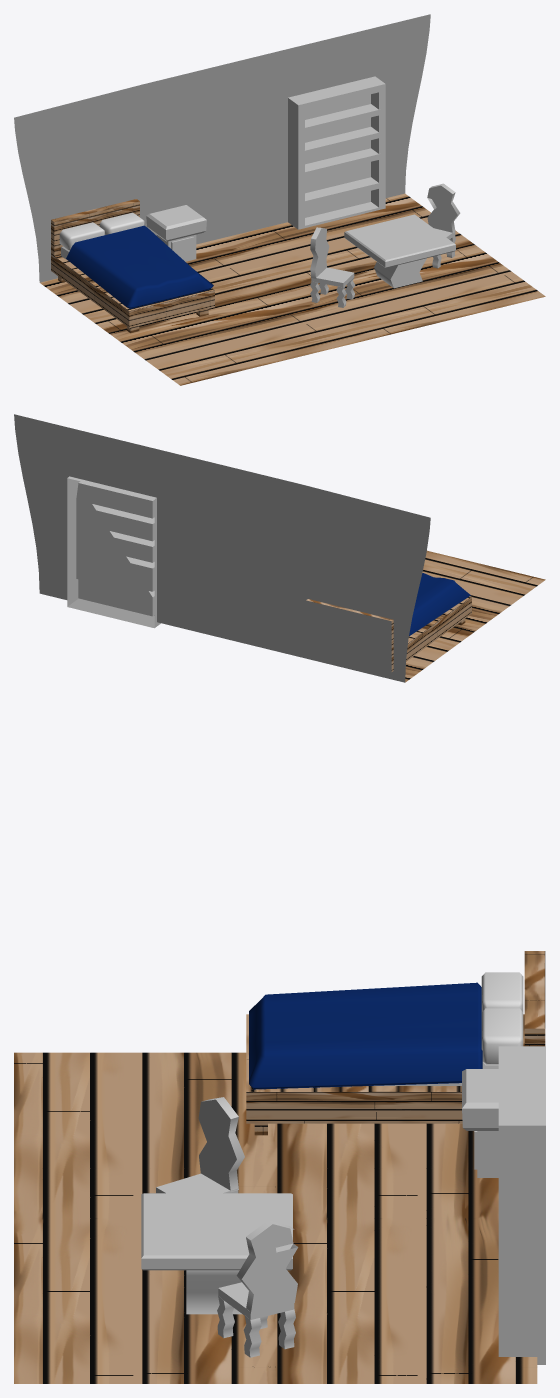
File: longhousecoloredbooliend.fbx
3 renders of one model, top to bottom at view 1: azimuth 30°, elevation 25°; view 2: azimuth 150°, elevation 25°; view 3: azimuth 270°, elevation 25°, orthographic. The views are drawn at different scales.
Parts seen in each view (by area): view 1: polySurface16; view 2: polySurface16; view 3: polySurface16.
Boxes of the visible parts, x1,y1,x2,y2 form: polySurface16: [14, 14, 545, 385]; polySurface16: [14, 414, 545, 682]; polySurface16: [14, 951, 545, 1383].
Bounding box in the file's own units: 9.68 × 3.94 × 5.76.
